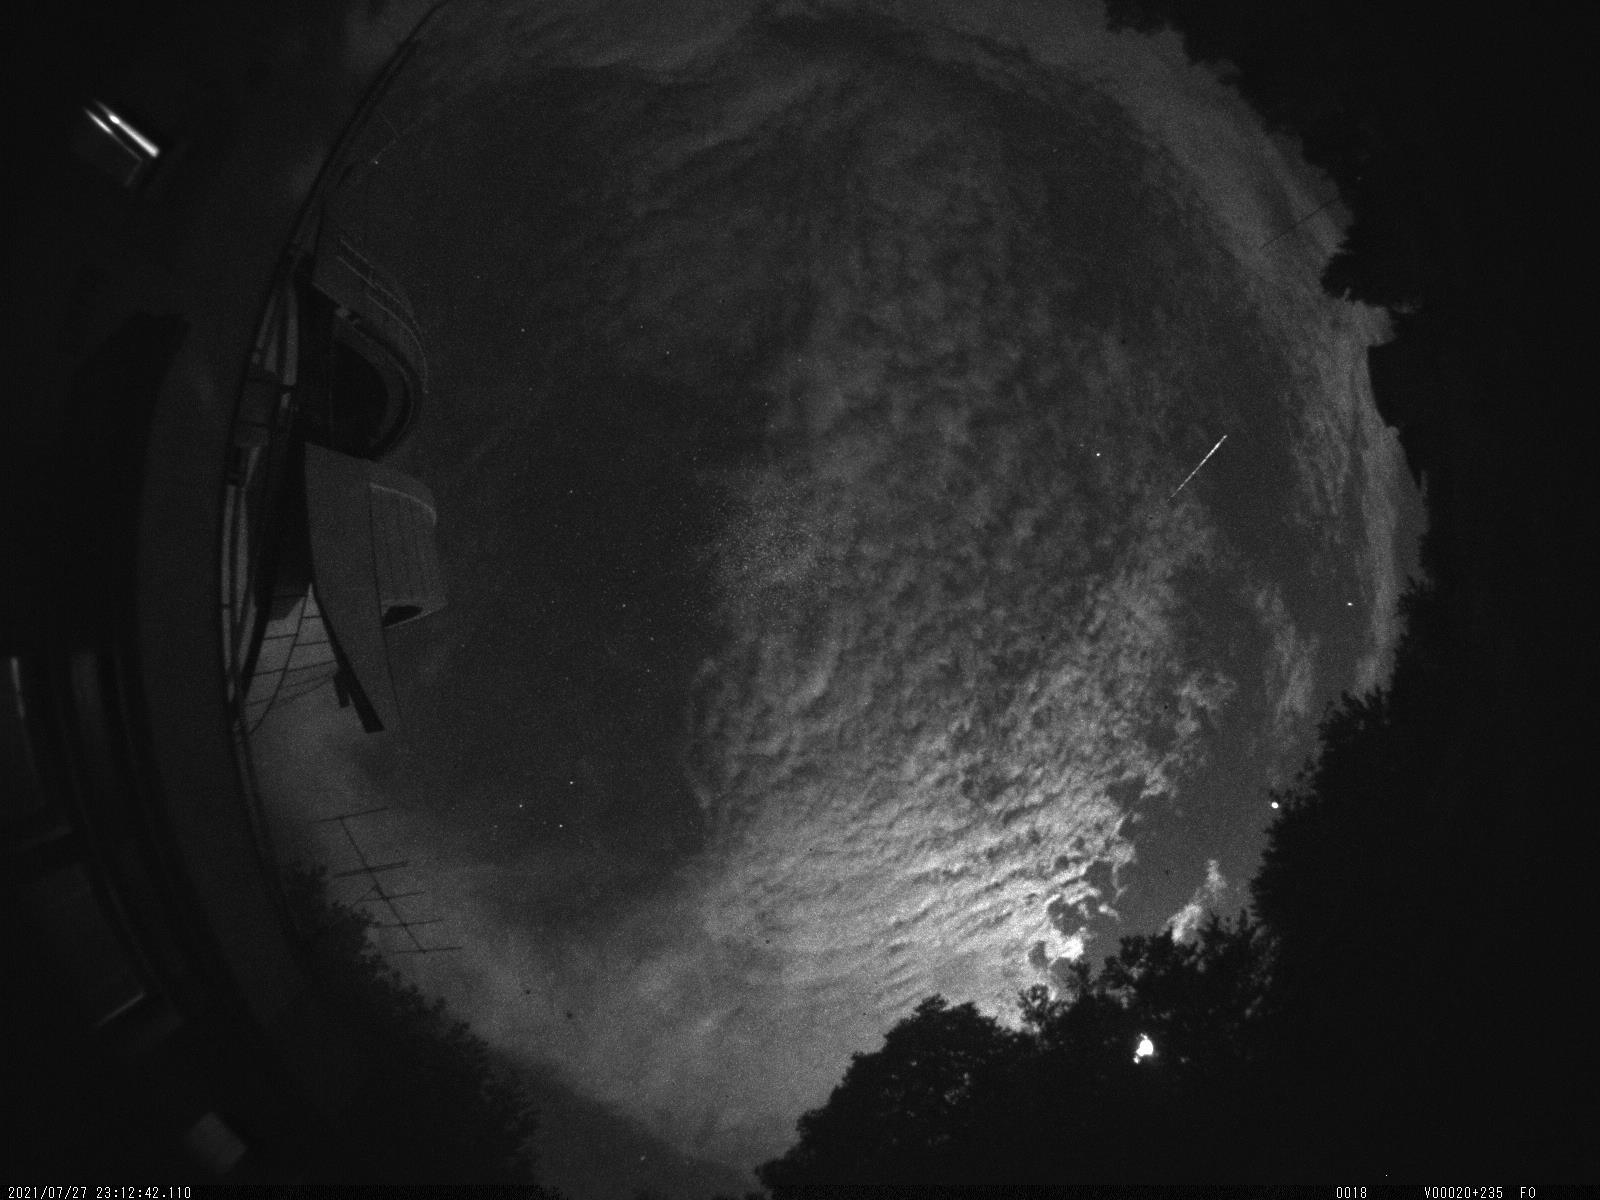Meteor: (1161, 425, 1230, 502)
